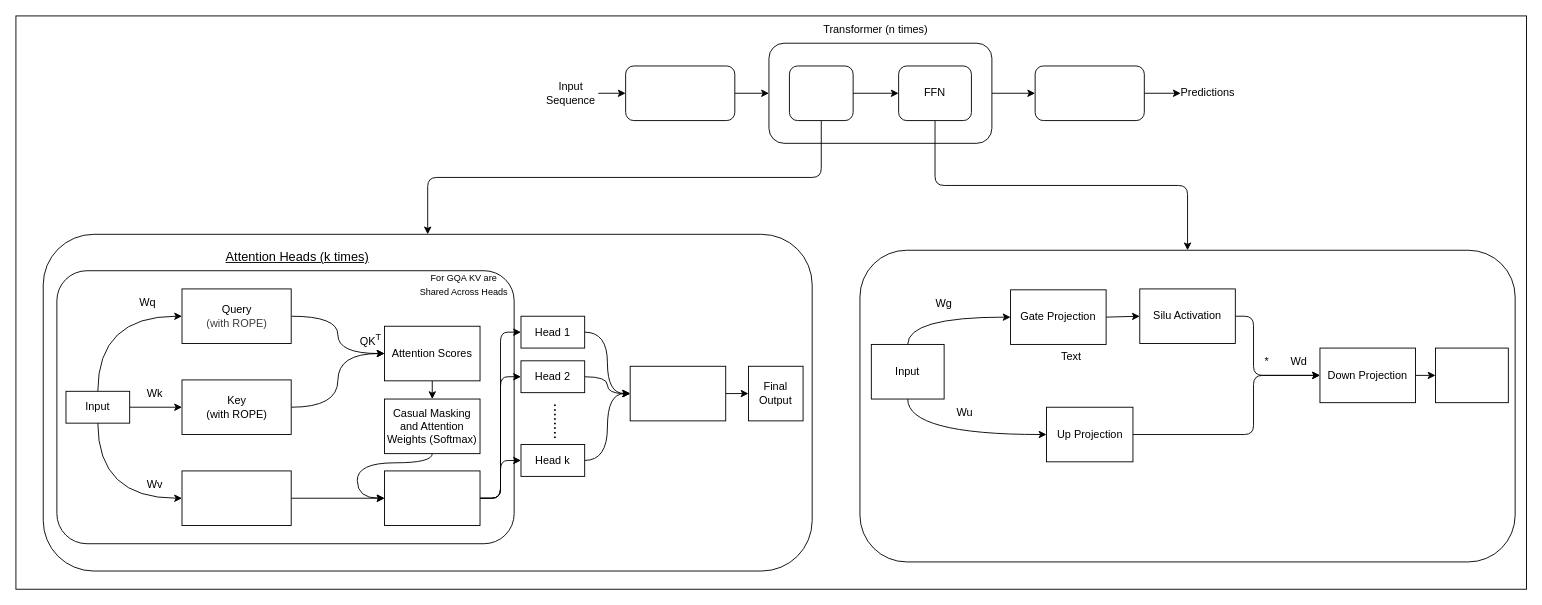
Image size: 1542x605. Some labels were removed from this diagram. The shapes that lost their labels are listed below. From the top down, each one's centre as x and y in pixels, then its label:
At (680,93): "Embedding Layer".
At (821,93): "Attention (GQA)".
At (1089,93): "LM_Head".
At (677,393): "Projection Layer".
At (1471,375): "Output".
At (236,498): "Value".
At (432,498): "Context Vectors".
